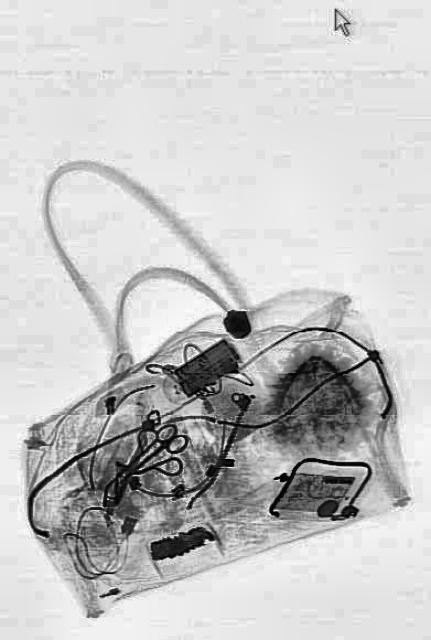Scissors: (112, 412, 188, 496)
